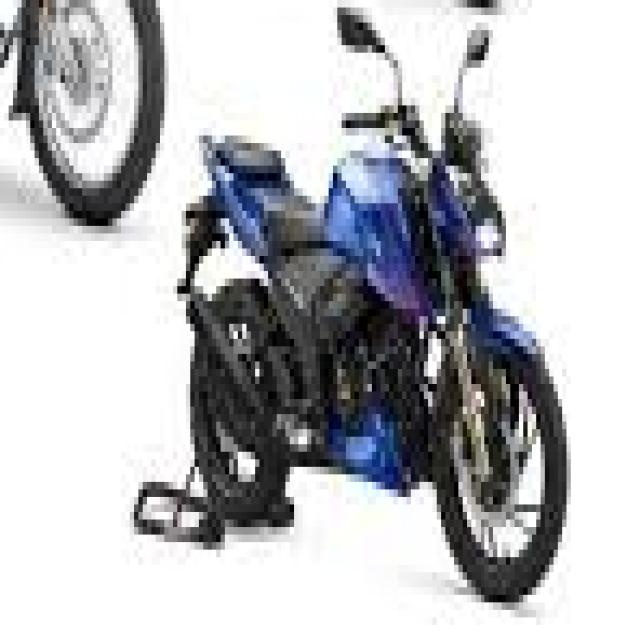bike: (177, 38, 571, 602), (0, 0, 177, 233), (216, 0, 549, 8)
